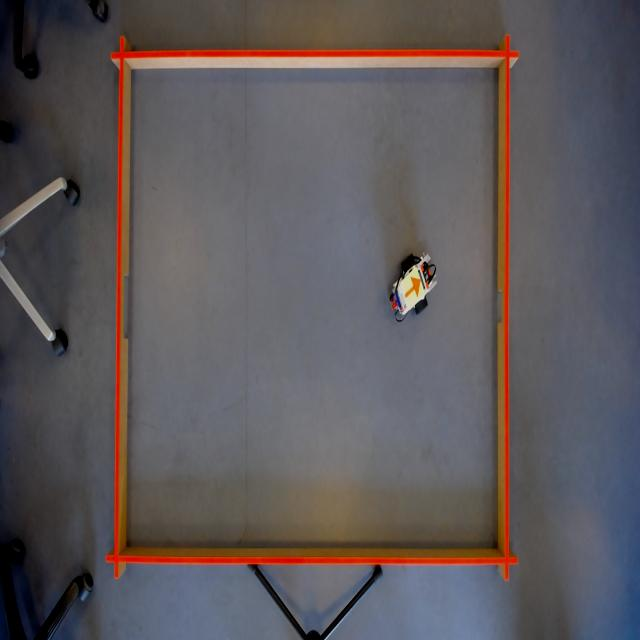robot: (400, 268, 426, 310)
